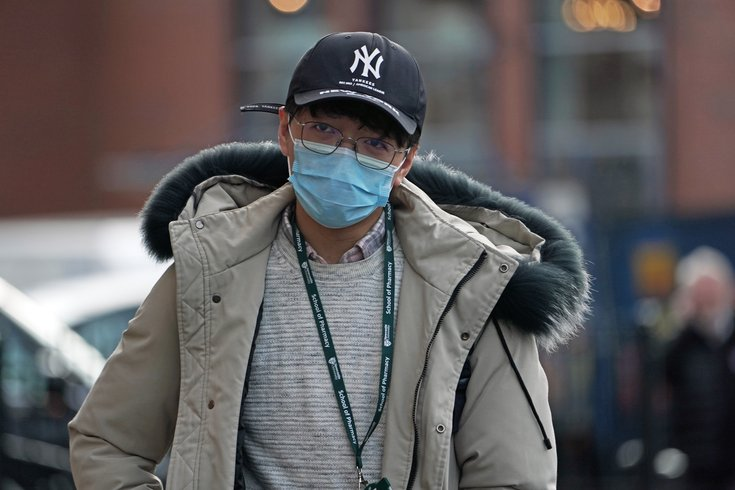surgical: (275, 134, 403, 233)
